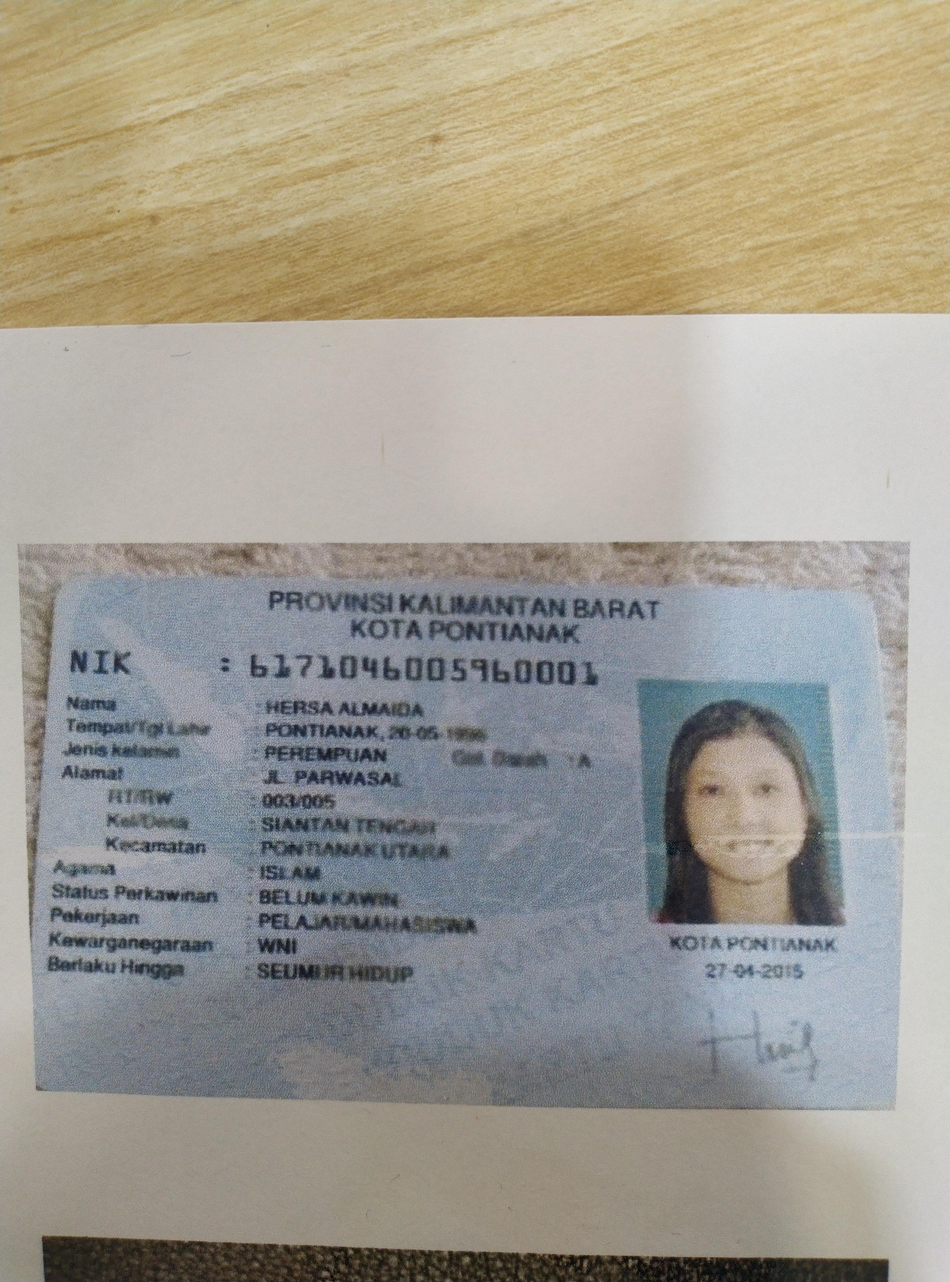ktp: (33, 588, 894, 1095)
